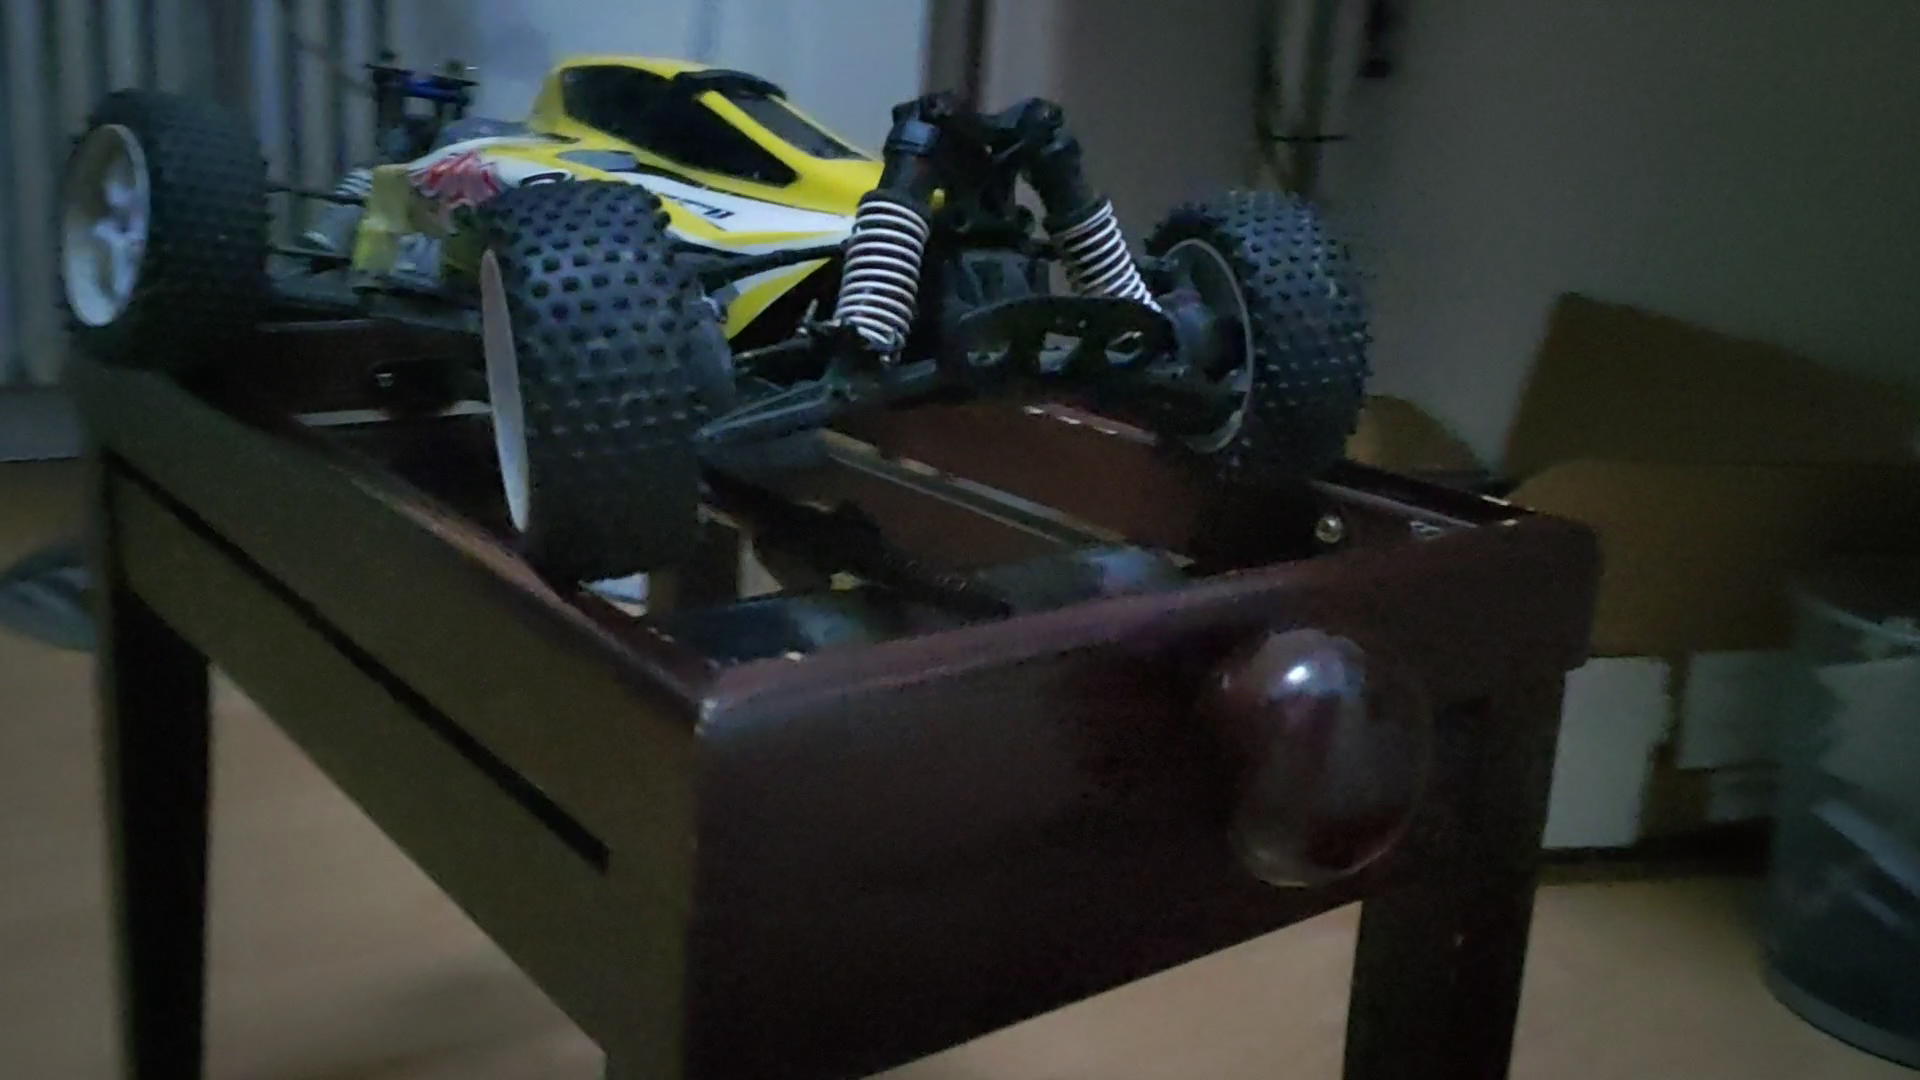buggy: (44, 55, 1377, 563)
